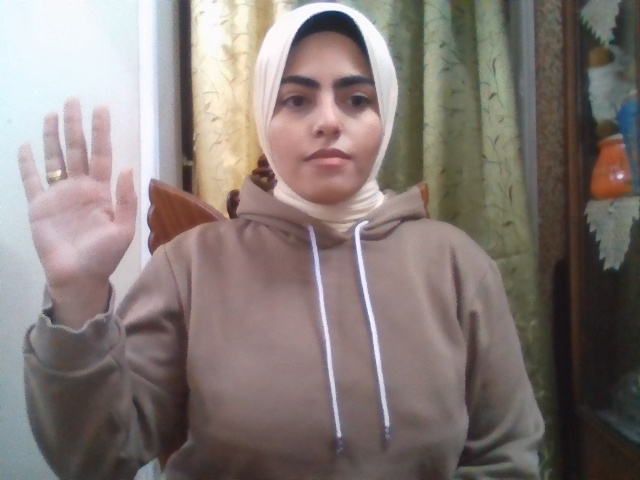hello: (18, 97, 137, 286)
